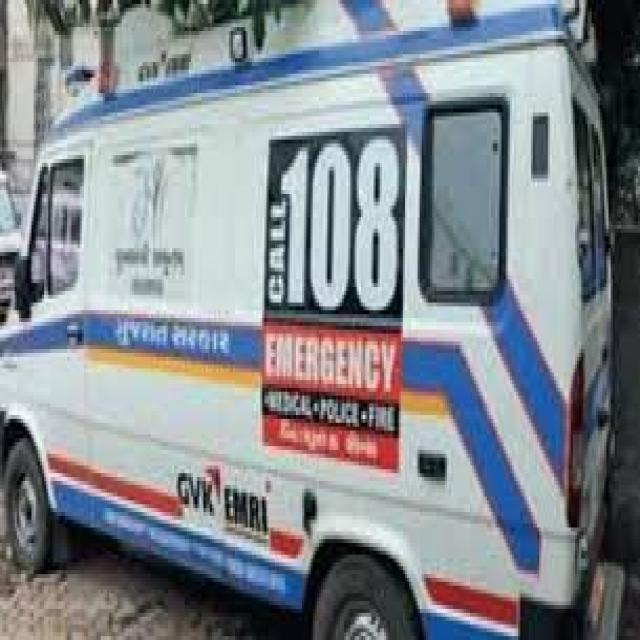Ambulance: (0, 42, 623, 640)
